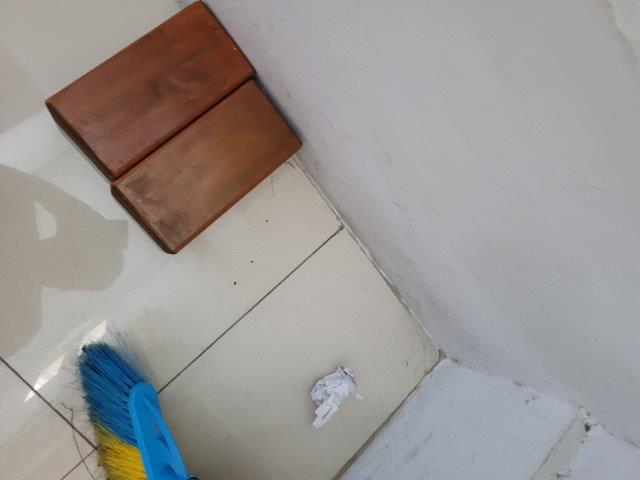kertas: (307, 364, 364, 431)
